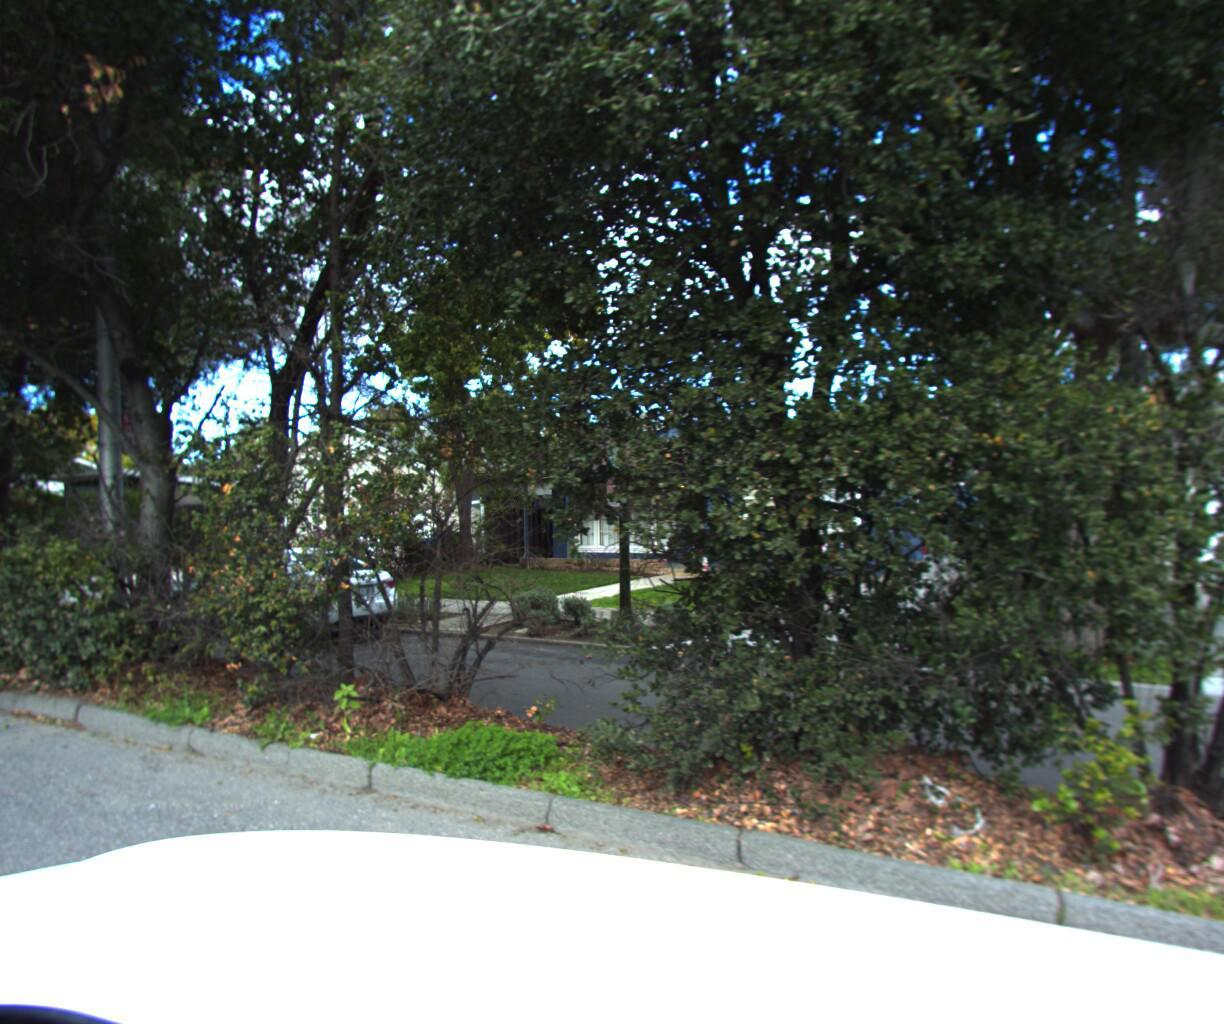car: (152, 545, 425, 656)
